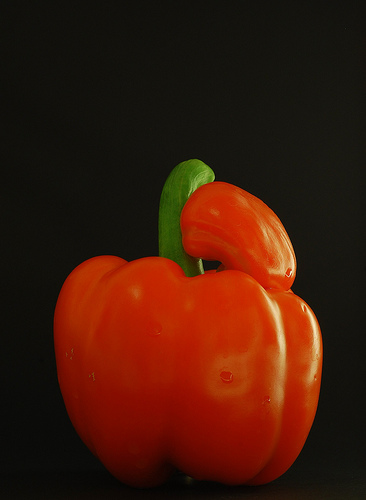capsicum: (50, 156, 325, 493)
